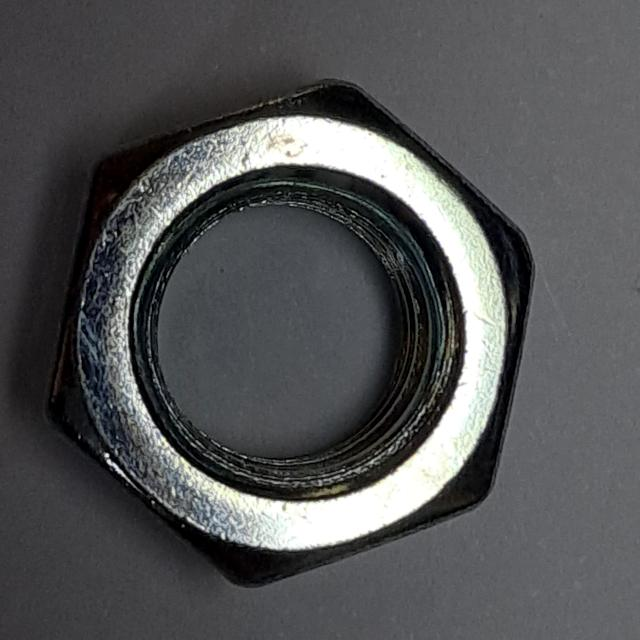Excellent: (31, 68, 547, 598)
